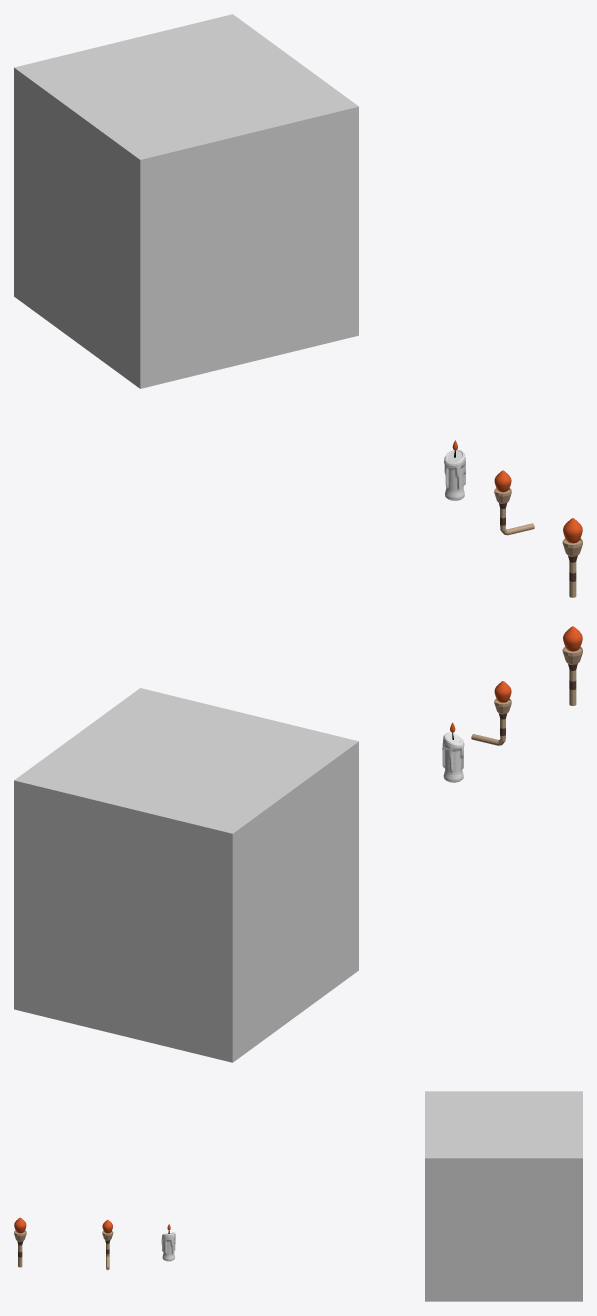
The model's file is tochafeito.fbx.
3 renders of one model, top to bottom at view 1: azimuth 30°, elevation 25°; view 2: azimuth 150°, elevation 25°; view 3: azimuth 270°, elevation 25°, orthographic. The views are drawn at different scales.
Visible parts, largest first — view 1: Cube; view 2: Cube, vela; view 3: Cube.
Boxes of the visible parts, left/top/right/bottom form: Cube: left=14, top=14, right=358, bottom=388; Cube: left=14, top=688, right=358, bottom=1062; vela: left=442, top=732, right=464, bottom=782; Cube: left=425, top=1091, right=582, bottom=1301.
Bounding box in the file's own units: 180 × 180 × 648.
